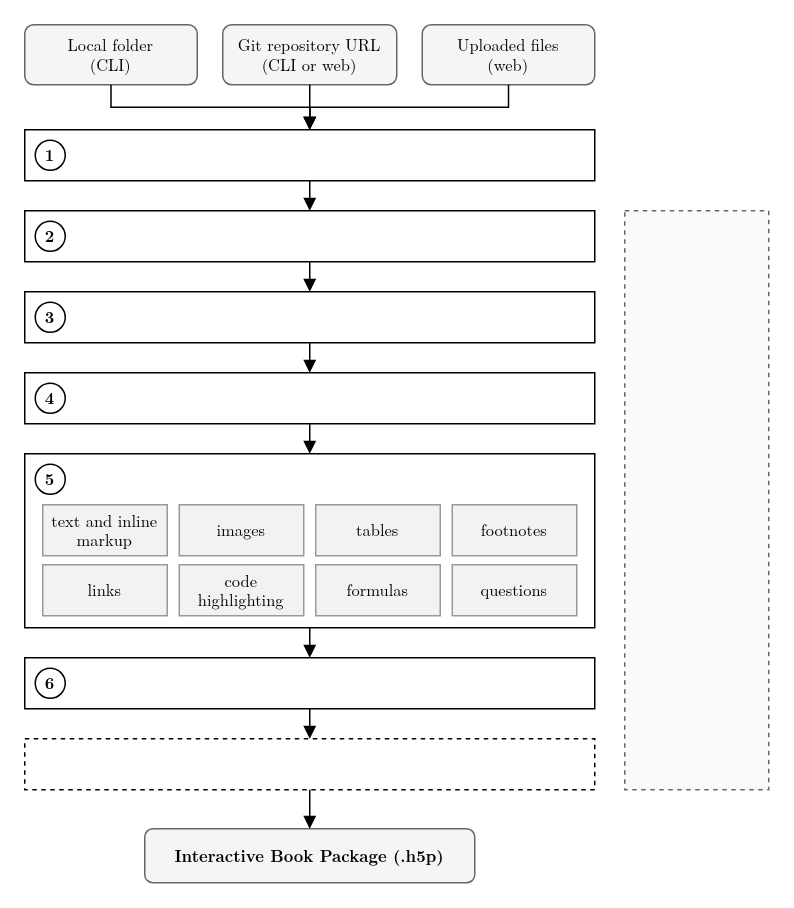
This 794x908 diagram has some shape labels left out. The box of each missing label's shape, as (x1, y1, x2, y2) in pixels:
Directory on disk: (23, 128, 595, 181)
Locate the folder that holds the chapters: (23, 209, 595, 262)
Merge with a package edited in H5P (optional): (23, 737, 595, 790)
Package: content.json, h5p.json, images, libraries: (23, 656, 595, 709)
Pass 1: parse every chapter, build the book index: (23, 371, 595, 424)
Pass 2: render every chapter: (23, 452, 595, 628)
Select and order the chapters, derive their titles: (23, 290, 595, 343)
Warnings collected at every step, never thrown, returned with the package: (623, 209, 769, 790)
